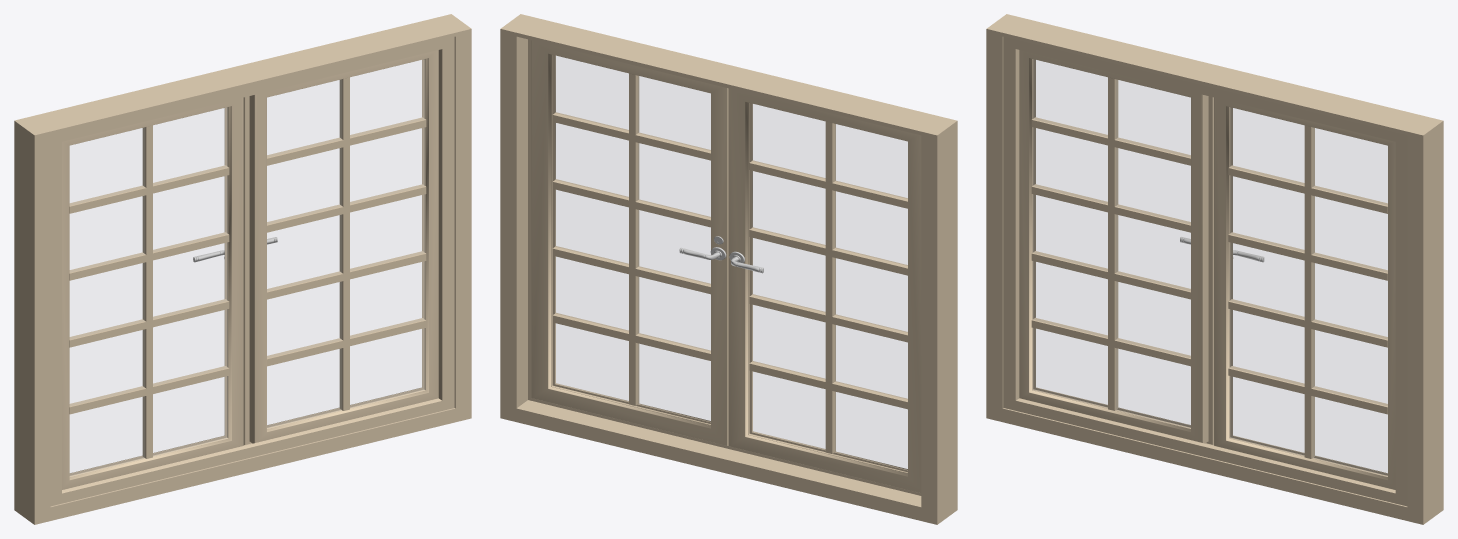
The model's file is Window1.fbx.
3 views of the same model, side by side, from view 1: azimuth 30°, elevation 25°; view 2: azimuth 150°, elevation 25°; view 3: azimuth 330°, elevation 25° (orthographic).
Visible parts, largest first — view 1: 16696_20_Pane_Casement_Window-Pine_V1; view 2: 16696_20_Pane_Casement_Window-Pine_V1; view 3: 16696_20_Pane_Casement_Window-Pine_V1.
Part boxes in pixels (bbox=[...]): 16696_20_Pane_Casement_Window-Pine_V1: bbox=[14, 14, 471, 524]; 16696_20_Pane_Casement_Window-Pine_V1: bbox=[500, 14, 957, 524]; 16696_20_Pane_Casement_Window-Pine_V1: bbox=[986, 14, 1443, 524].
Bounding box in the file's own units: 856 × 729 × 69.04.
